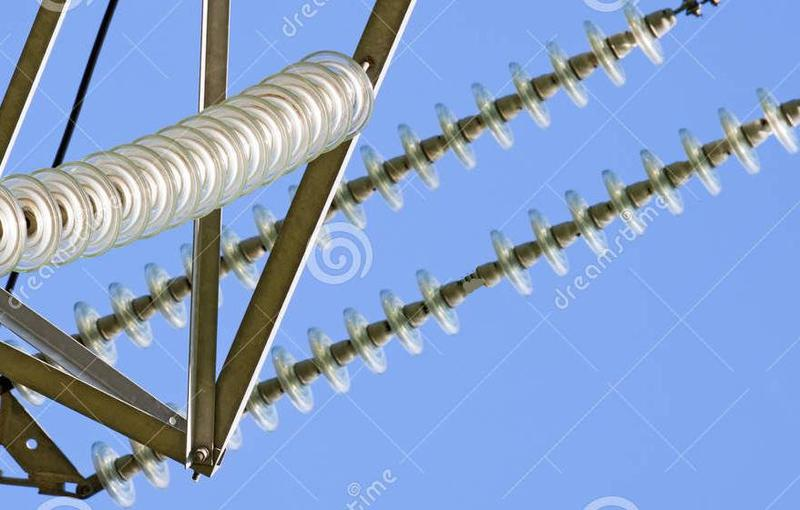gap: (415, 227, 534, 336)
